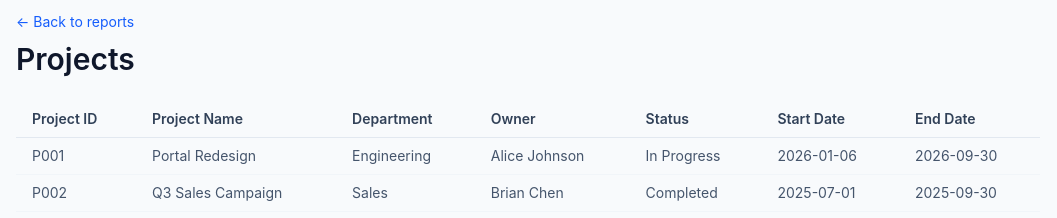
Test case: ReportDetailPage (projects) › shows a sort indicator on a column header after it is clicked
Expected: the text "Portal Redesign" is shown, [136,138,336,174]
Click the column heading "Project Name".
click(236, 119)  # box [136,101,336,138]
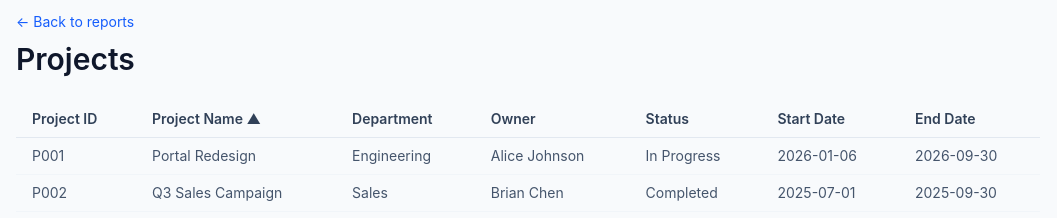
Expected: the column heading "Project Name" reads "Project Name ▲", [243,110,261,127]
